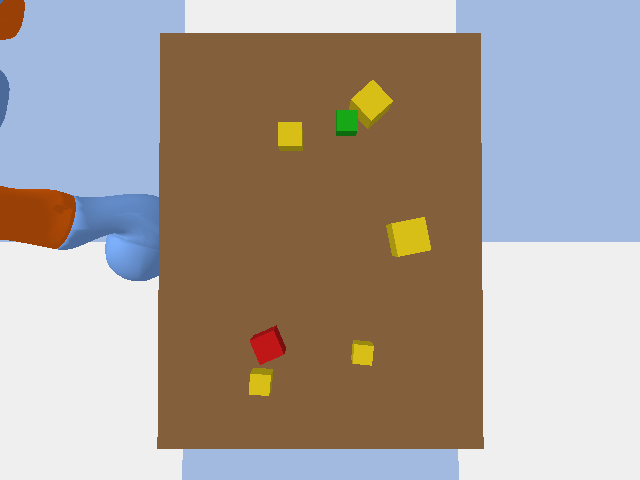green_obj: (336, 110, 357, 135)
red_obj: (250, 325, 285, 364)
yellow_obj: (349, 80, 392, 128), (386, 217, 430, 256), (278, 122, 302, 150), (249, 368, 272, 395), (351, 340, 373, 365)
